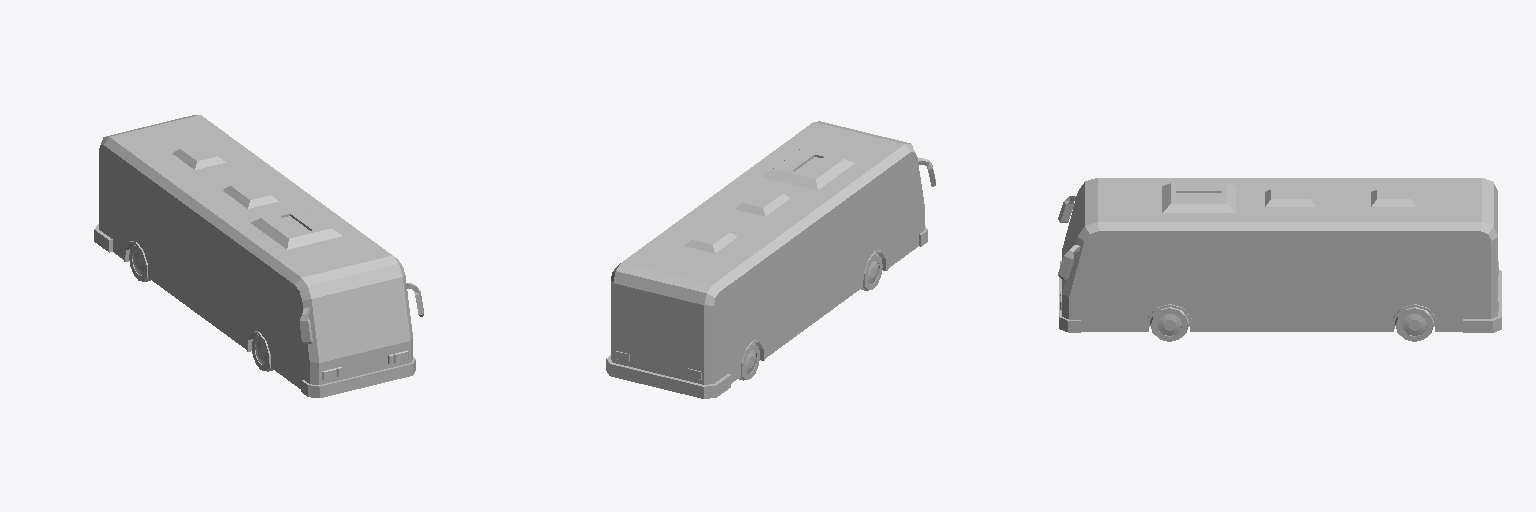
The model's file is 1376 Bus.obj.
3 renders of one model, left to right at view 1: azimuth 30°, elevation 25°; view 2: azimuth 150°, elevation 25°; view 3: azimuth 270°, elevation 25°, orthographic.
Visible parts, largest first — view 1: Bus; view 2: Bus; view 3: Bus.
Part boxes in pixels (bbox=[...]): Bus: bbox=[94, 115, 423, 397]; Bus: bbox=[606, 121, 935, 398]; Bus: bbox=[1058, 178, 1501, 341].
Size of the model in its own units: 50.06 by 48.81 by 157.